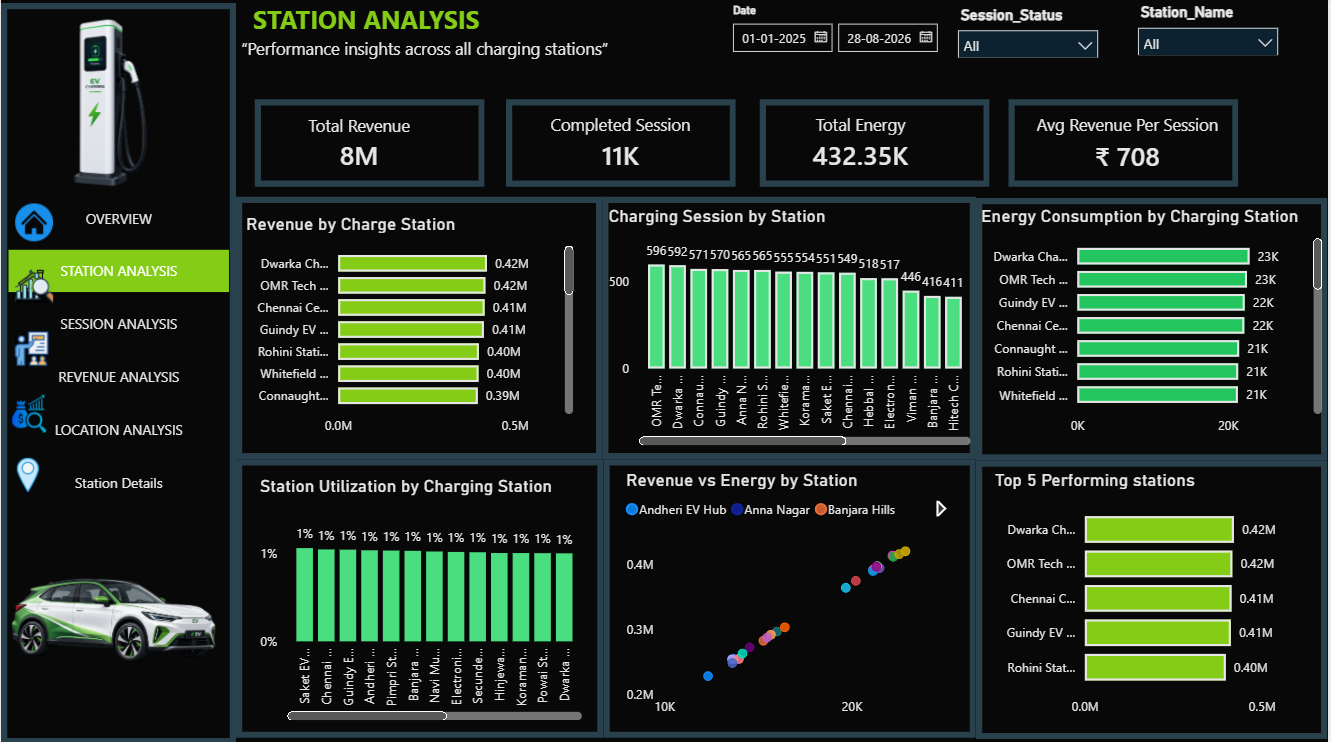

What the dashboard file says about the page in this screenshot:
{"tool":"powerbi","page":{"name":"STATION ANALYSIS","canvas":[1280,720],"ordinal":1},"visuals":[{"type":"shape","box":[1008.6,85.7,234,84.5],"z":0},{"type":"shape","box":[742,85.7,238.9,84.5],"z":1000},{"type":"shape","box":[486.2,85.7,232.8,84.5],"z":2000},{"type":"shape","box":[231.6,85.7,235.3,84.5],"z":3000},{"type":"shape","box":[0,4.6,226.8,715.4],"z":4000},{"type":"pageNavigator","box":[7.2,191.8,213.5,300.4],"z":5000},{"type":"textbox","box":[231.3,0,740.3,42.5],"z":6000},{"type":"textbox","box":[226.8,32.6,744.4,49.5],"z":7000},{"type":"actionButton","box":[10,253.8,42.5,50],"z":8000},{"type":"actionButton","box":[9.7,194.2,44.6,44.6],"z":9000},{"type":"actionButton","box":[10,256.3,45,45],"z":10000},{"type":"actionButton","box":[10.1,318.2,32.7,42.8],"z":11000},{"type":"actionButton","box":[10.1,321.9,32.7,40.2],"z":12000},{"type":"actionButton","box":[7.2,316.1,44.6,44.6],"z":13000},{"type":"actionButton","box":[4.8,378.8,44.6,44.6],"z":14000},{"type":"actionButton","box":[3.6,437.9,44.6,44.6],"z":15000},{"type":"actionButton","box":[16.9,14.5,196.6,173.7],"z":16000},{"type":"actionButton","box":[4.8,482.6,208.7,229.2],"z":17000},{"type":"cardVisual","fields":{"Data":["measure.Total Revenue"]},"box":[231.6,85.7,228,89.3],"z":18000},{"type":"cardVisual","fields":{"Data":["measure.Completed Session"]},"box":[486.2,82,222,101.3],"z":19000},{"type":"cardVisual","fields":{"Data":["measure.Total Energy"]},"box":[732.3,82,222,97.7],"z":20000},{"type":"cardVisual","fields":{"Data":["measure.Avg Revenue Per Session"]},"box":[1002.6,90.5,247.3,84.5],"z":21000},{"type":"shape","box":[226.8,191.8,353.5,253.4],"z":22000},{"type":"shape","box":[580.3,191.8,360.7,253.4],"z":23000},{"type":"shape","box":[941,193,339,253.4],"z":24000},{"type":"slicer","fields":{"Values":["Calander.Date"]},"box":[693.7,0,219.6,72.4],"z":25000},{"type":"clusteredBarChart","title":"Revenue by Charge Station","fields":{"Category":["EV_Charging_Station.Station_Name"],"Y":["measure.Completed Revenue"]},"box":[231.6,207.5,325.7,223.2],"z":26000},{"type":"clusteredColumnChart","title":"Charging Session by Station","fields":{"Category":["EV_Charging_Station.Station_Name"],"Y":["measure.Completed Session"]},"box":[581.5,200.3,359.5,236.5],"z":27000},{"type":"clusteredBarChart","title":"Energy Consumption by Charging Station","fields":{"Category":["EV_Charging_Station.Station_Name"],"Y":["measure.Completed Energy"]},"box":[941,200.3,339,230.4],"z":28000},{"type":"shape","box":[226.8,445.2,354.7,269],"z":29000},{"type":"shape","box":[581.5,445.2,359.5,269],"z":30000},{"type":"shape","box":[941,446.4,339,269],"z":31000},{"type":"clusteredColumnChart","title":"Station Utilization by Charging Station","fields":{"Category":["EV_Charging_Station.Station_Name"],"Y":["measure.Station Utilization %"]},"box":[244.9,460.9,320.9,241.3],"z":32000},{"type":"scatterChart","title":"Revenue vs Energy by Station","fields":{"X":["measure.Completed Energy"],"Y":["measure.Completed Revenue"],"Series":["EV_Charging_Station.Station_Name"]},"box":[598.4,454.8,328.2,247.3],"z":33000},{"type":"clusteredBarChart","title":"Top 5 Performing stations","fields":{"Category":["EV_Charging_Station.Station_Name"],"Y":["measure.Completed Revenue"]},"box":[954.3,454.8,316.1,247.3],"z":34000},{"type":"slicer","fields":{"Values":["EV_Charging_Station.Station_Name"]},"box":[1087,0,155.6,55.5],"z":35000},{"type":"slicer","fields":{"Values":["EV_Charging_Station.Session_Status"]},"box":[913.3,2.4,155.6,55.5],"z":36000}]}

Visuals, with their boxes in screenshot pixels (x1, y1, x2, y2), scaled from the page's 1280x720 canvas onto the 1331x742 screenshot:
shape: 1049,88,1292,175
shape: 772,88,1020,175
shape: 506,88,748,175
shape: 241,88,486,175
shape: 0,5,236,741
pageNavigator: 7,198,229,507
textbox: 241,0,1010,44
textbox: 236,34,1010,85
actionButton: 10,262,55,313
actionButton: 10,200,56,246
actionButton: 10,264,57,311
actionButton: 11,328,45,372
actionButton: 11,332,45,373
actionButton: 7,326,54,372
actionButton: 5,390,51,436
actionButton: 4,451,50,497
actionButton: 18,15,222,194
actionButton: 5,497,222,734
cardVisual - measure.Total Revenue: 241,88,478,180
cardVisual - measure.Completed Session: 506,85,736,189
cardVisual - measure.Total Energy: 761,85,992,185
cardVisual - measure.Avg Revenue Per Session: 1043,93,1300,180
shape: 236,198,603,459
shape: 603,198,978,459
shape: 978,199,1330,460
slicer - Calander.Date: 721,0,950,75
"Revenue by Charge Station" clusteredBarChart: 241,214,580,444
"Charging Session by Station" clusteredColumnChart: 605,206,978,450
"Energy Consumption by Charging Station" clusteredBarChart: 978,206,1330,444
shape: 236,459,605,736
shape: 605,459,978,736
shape: 978,460,1330,737
"Station Utilization by Charging Station" clusteredColumnChart: 255,475,588,724
"Revenue vs Energy by Station" scatterChart: 622,469,964,724
"Top 5 Performing stations" clusteredBarChart: 992,469,1321,724
slicer - EV_Charging_Station.Station_Name: 1130,0,1292,57
slicer - EV_Charging_Station.Session_Status: 950,2,1111,60
